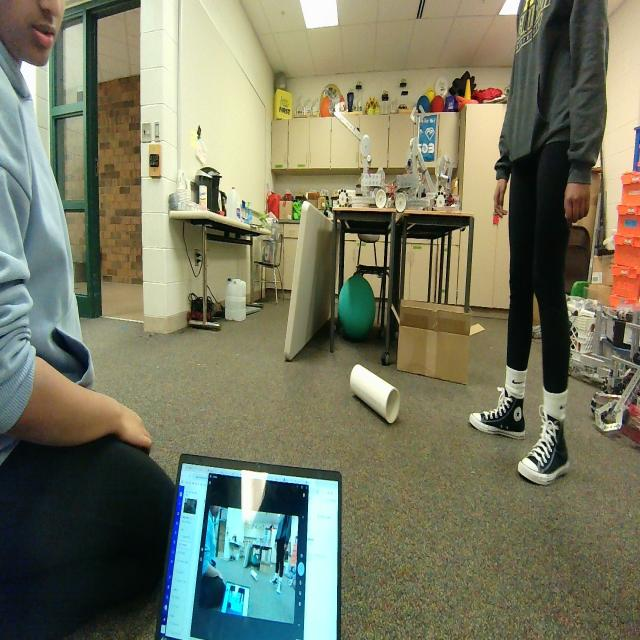algae: (336, 273, 377, 341)
coral: (350, 364, 400, 425)
